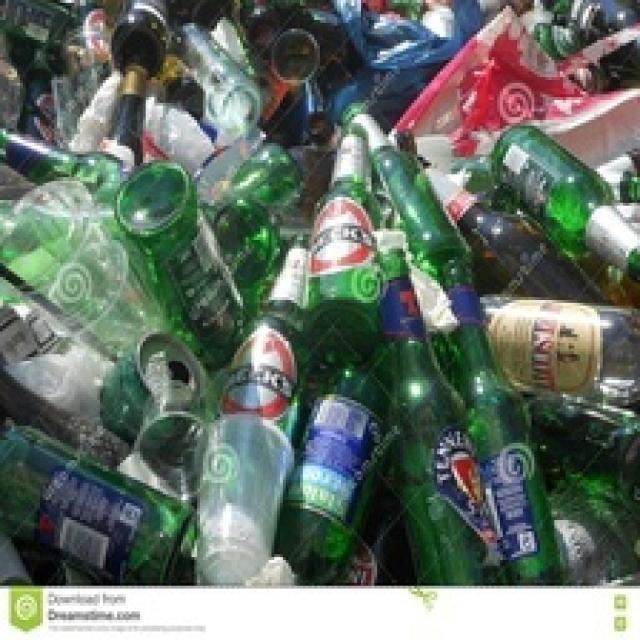Glass: (394, 314, 514, 583), (0, 424, 196, 586), (410, 156, 610, 306), (455, 316, 565, 584), (488, 119, 640, 286), (119, 163, 244, 364), (280, 366, 397, 570), (340, 104, 472, 278), (207, 234, 314, 438), (480, 294, 640, 402), (302, 122, 380, 340)
